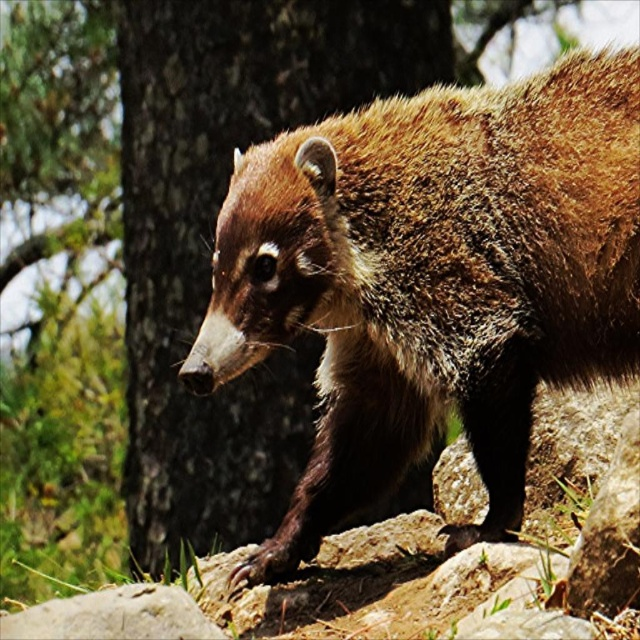Brown bear: (168, 31, 640, 592)
